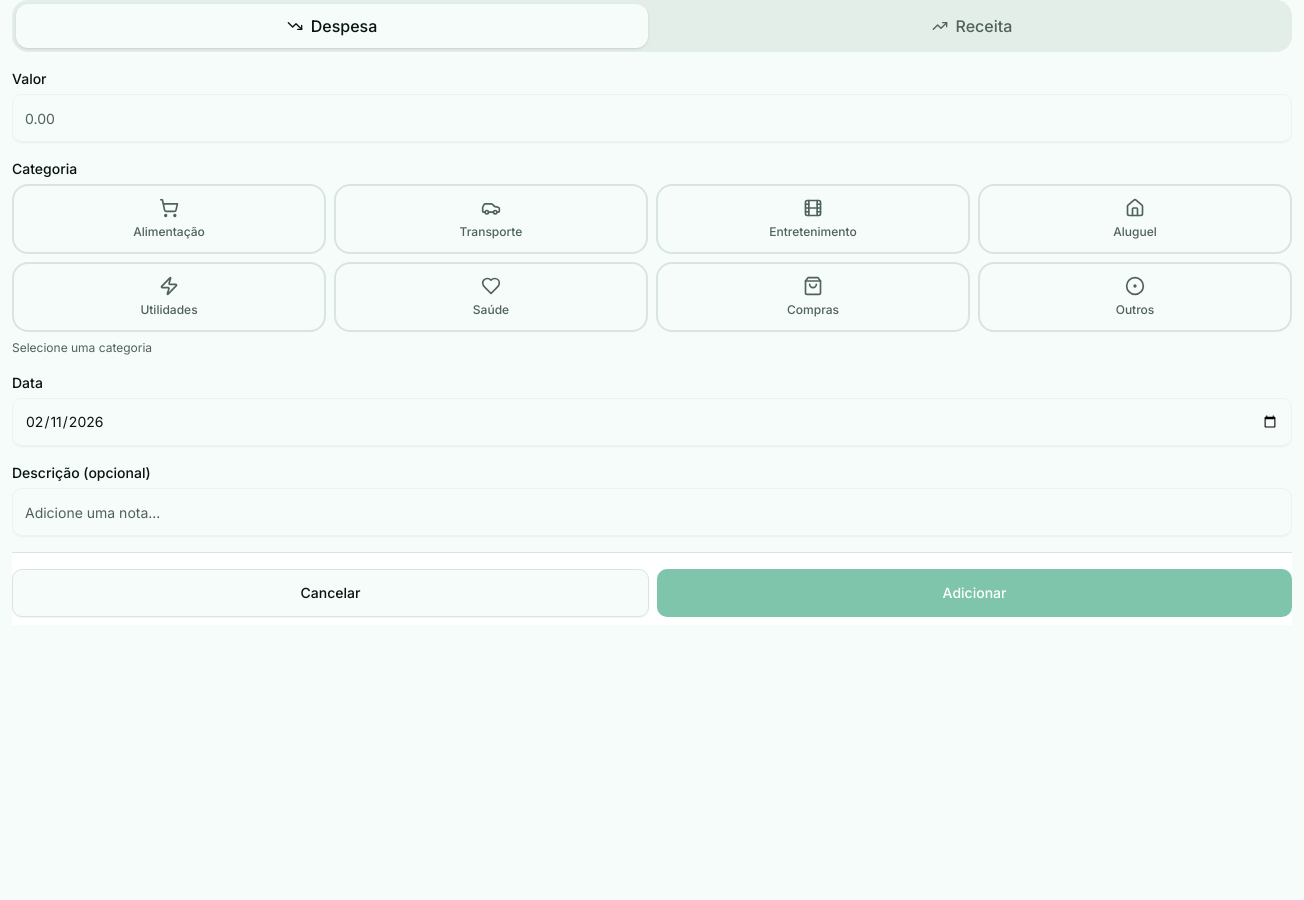
Scenario: TransactionForm Integration › Type toggle › resets category when switching from expense to income if category is invalid
The width and height of the screenshot is (1304, 900).
Select expense category
What coordinates should you click on to do the following:
click the button with test id "tx-category-Groceries"
I would click on:
 (169, 219)
Its box is x1=12 y1=184 x2=326 y2=254.
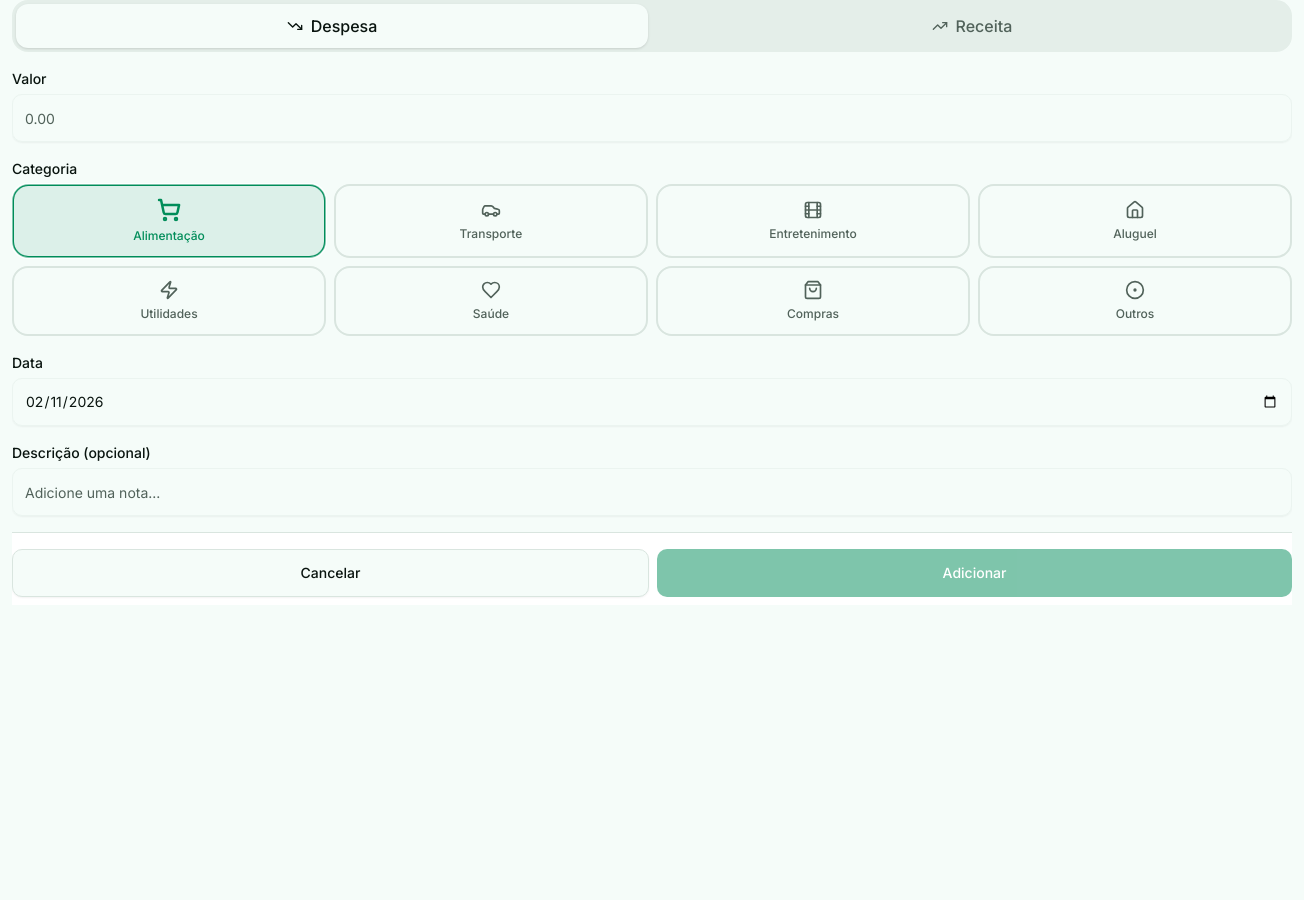
Switch to income
What coordinates should you click on to do the following:
click the button "Receita"
I would click on:
 (972, 26)
Its box is x1=656 y1=4 x2=1288 y2=48.
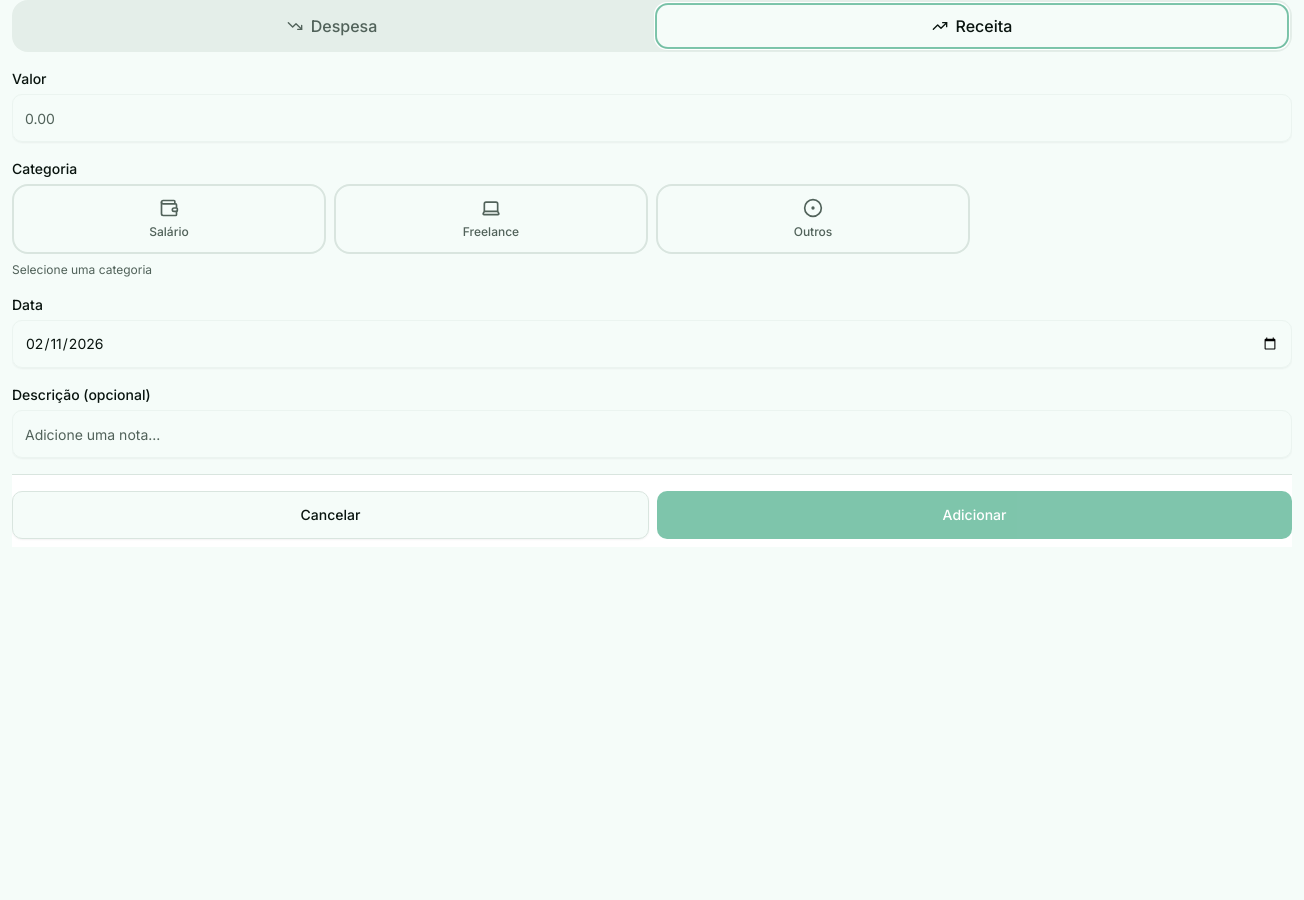
expect the button with test id "tx-submit" is disabled: met, box x1=657 y1=491 x2=1292 y2=539
expect the button with test id "tx-category-Groceries" is gone: met
